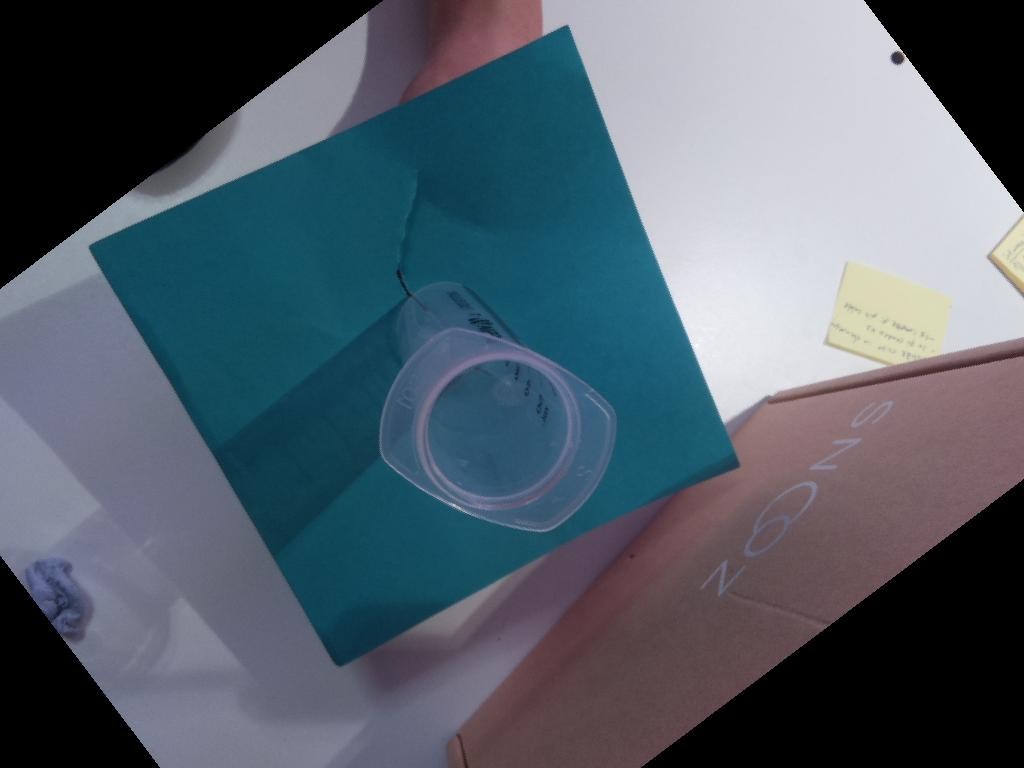clean: (376, 327, 618, 532)
